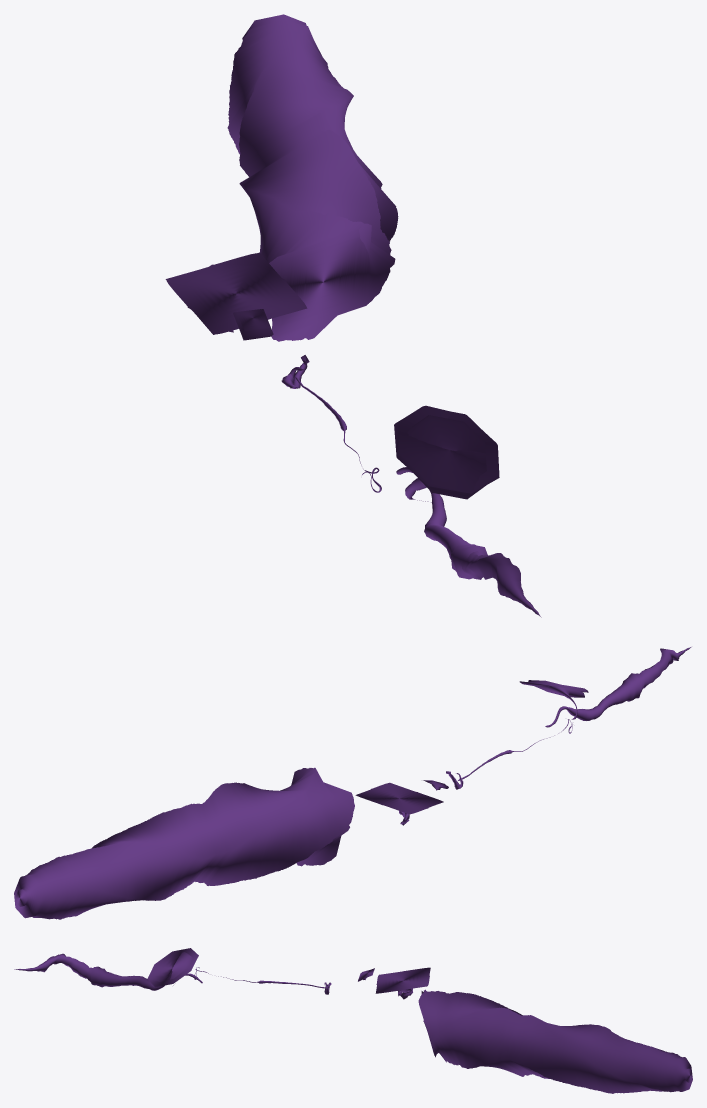
The model's file is Drawing.glb.
3 renders of one model, top to bottom at view 1: azimuth 30°, elevation 25°; view 2: azimuth 150°, elevation 25°; view 3: azimuth 270°, elevation 25°, orthographic. The views are drawn at different scales.
Parts seen in each view (by area): view 1: Tube Stroke 9, Tube Stroke 2, Tube Stroke 7, Tube Stroke 1, Tube Stroke 6; view 2: Tube Stroke 9, Tube Stroke 1, Tube Stroke 7, Tube Stroke 2; view 3: Tube Stroke 9, Tube Stroke 1, Tube Stroke 2, Tube Stroke 7.
Part boxes in pixels (x1,y1,x2,y2): Tube Stroke 9: [227, 14, 398, 341]; Tube Stroke 2: [394, 405, 499, 502]; Tube Stroke 7: [165, 252, 307, 334]; Tube Stroke 1: [396, 467, 541, 617]; Tube Stroke 6: [233, 309, 273, 340]; Tube Stroke 9: [14, 767, 354, 919]; Tube Stroke 1: [545, 647, 691, 727]; Tube Stroke 7: [355, 782, 443, 814]; Tube Stroke 2: [519, 680, 588, 719]; Tube Stroke 9: [418, 989, 692, 1093]; Tube Stroke 1: [14, 953, 202, 990]; Tube Stroke 2: [147, 948, 198, 987]; Tube Stroke 7: [375, 967, 430, 993].
Size of the model in its own units: 14.3 by 4.5 by 37.53.
